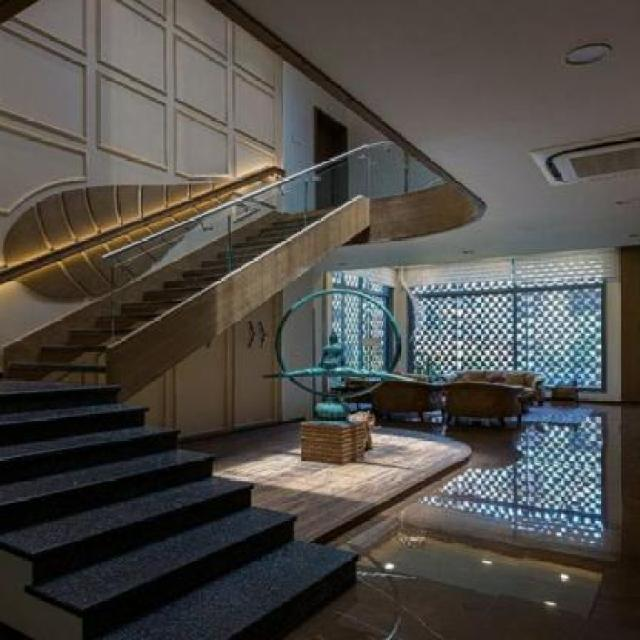stair: (1, 366, 372, 640), (1, 194, 400, 356)
